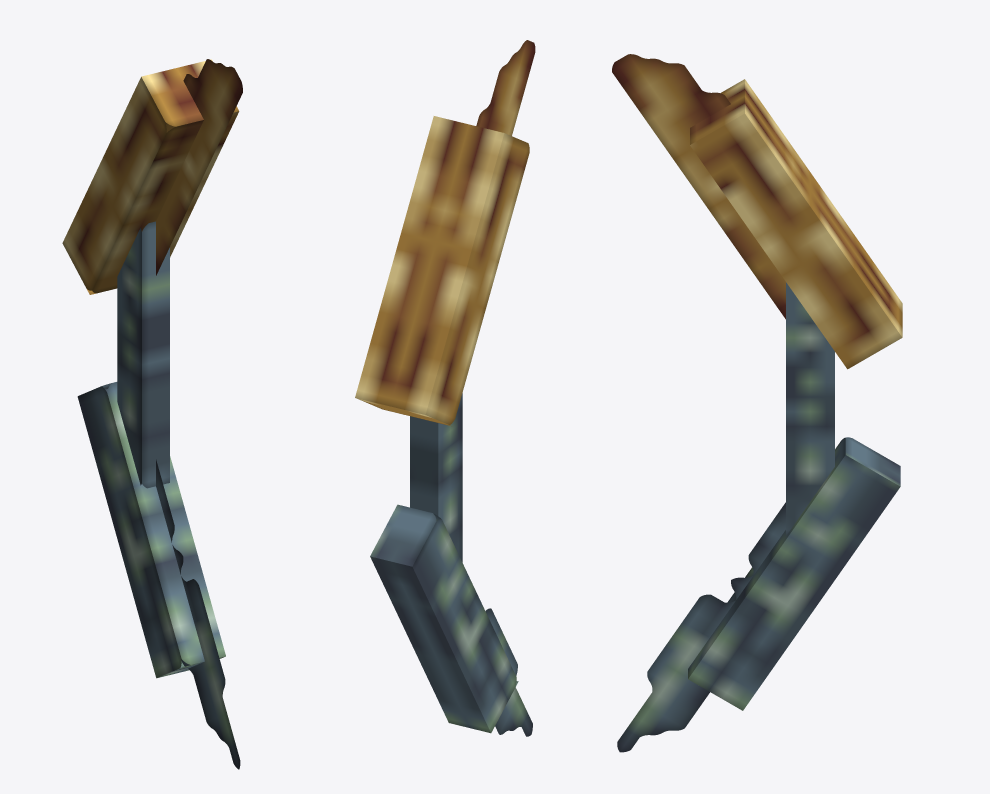
File: cursed_bow.obj
3 views of the same model, side by side, from view 1: azimuth 30°, elevation 25°; view 2: azimuth 150°, elevation 25°; view 3: azimuth 270°, elevation 25° (orthographic).
Parts seen in each view (by area): view 1: root/bow/arm1, root/bow/arm2, root/bow; view 2: root/bow/arm1, root/bow/arm2, root/bow; view 3: root/bow/arm1, root/bow/arm2, root/bow.
Boxes of the visible parts, x1=… form: root/bow/arm1: x1=62, y1=59, x2=242, y2=294; root/bow/arm2: x1=77, y1=382, x2=240, y2=769; root/bow: x1=117, y1=221, x2=169, y2=488; root/bow/arm1: x1=355, y1=40, x2=535, y2=426; root/bow/arm2: x1=370, y1=504, x2=532, y2=736; root/bow: x1=410, y1=393, x2=462, y2=562; root/bow/arm1: x1=612, y1=54, x2=902, y2=369; root/bow/arm2: x1=617, y1=437, x2=900, y2=752; root/bow: x1=786, y1=282, x2=834, y2=535.
Bounding box in the file's own units: 7.07 × 51.84 × 23.12.
Materials: 1 (1 with a texture image).
